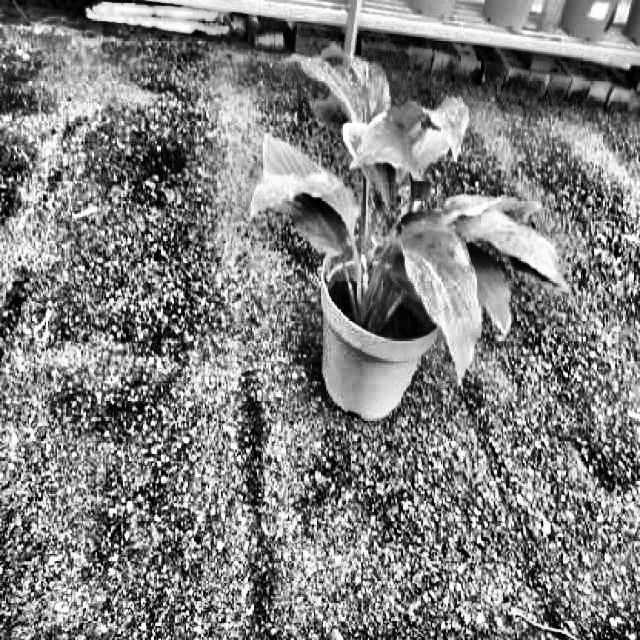plants: (243, 41, 566, 382)
